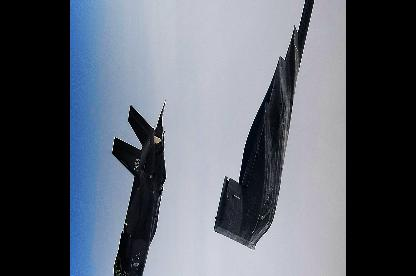B1: (214, 0, 327, 249)
F22: (111, 98, 167, 273)
